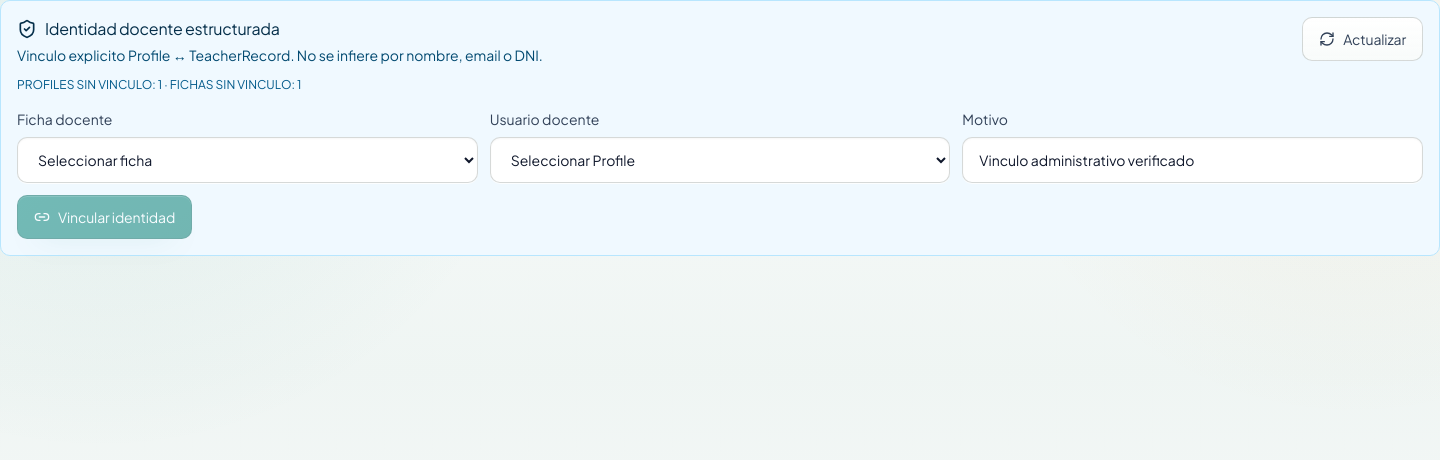
TeacherProfileIdentityLinkPanel › muestra candidatos minimizados y vincula con confirmacion explicita
Expected: the text "Profiles sin vinculo: 1 · fichas sin vinculo: 1" is shown, [17,77,301,92]
Select "Ficha Uno · activo" in the dropdown labelled "Ficha docente". click: (247, 160)
box: [17,137,478,183]
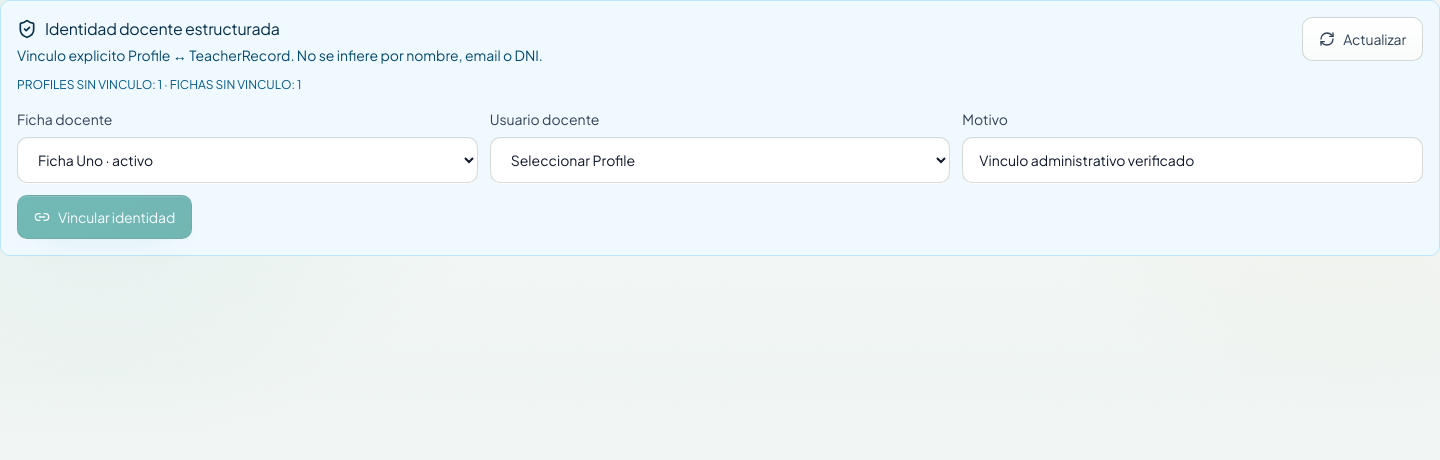
Select "Docente Uno" in the dropdown labelled "Usuario docente". click: (720, 160)
box: [490,137,950,183]
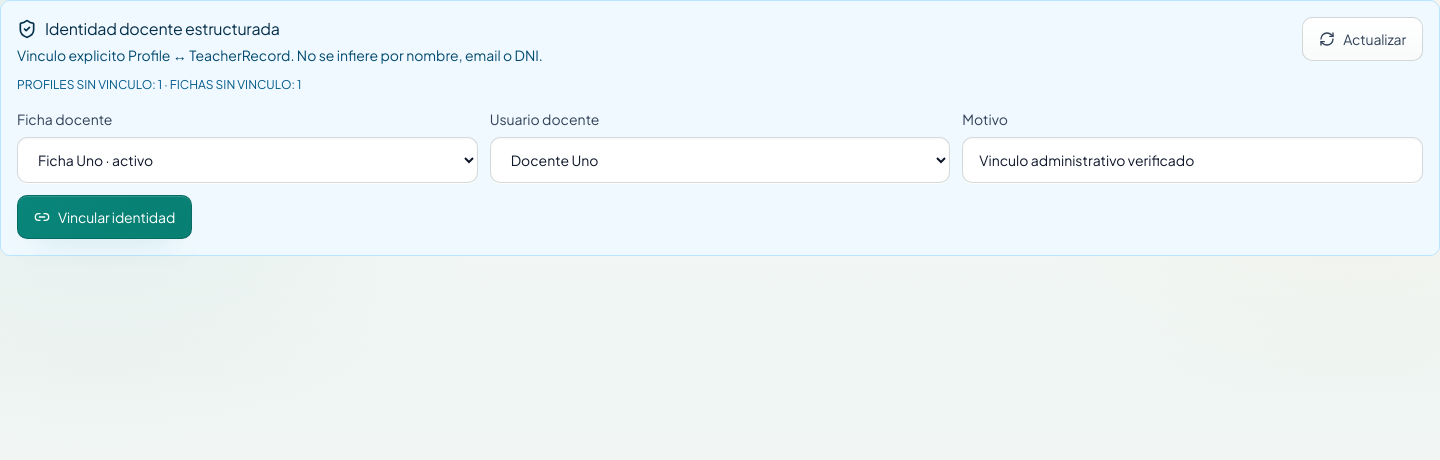
Replace the text in the field labelled "Motivo" with "Identidad verificada". click: (1193, 160)
box: [962,137,1423,183]
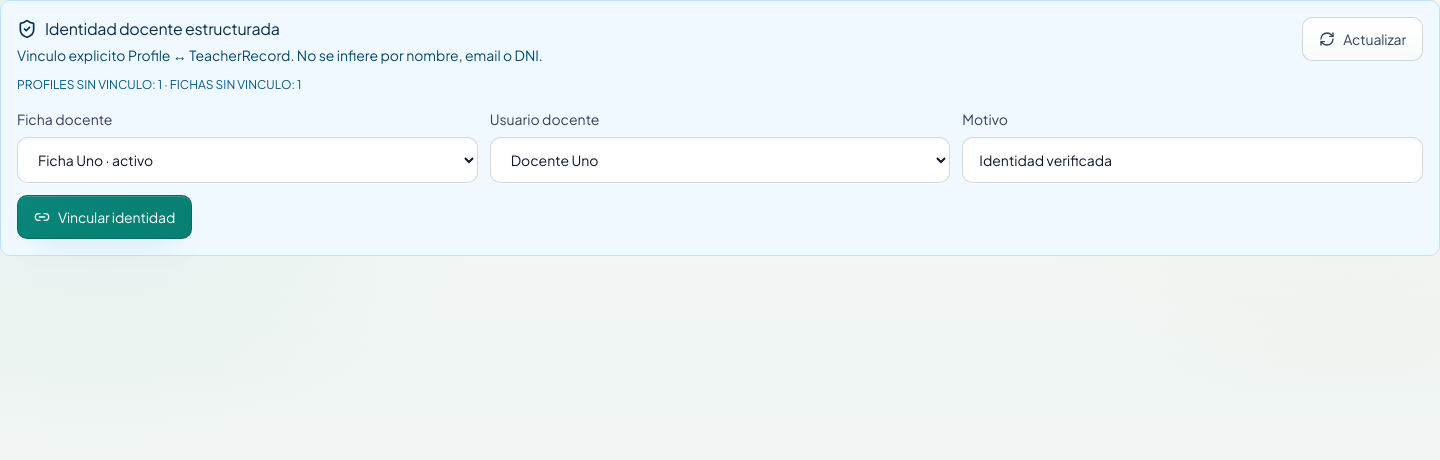
Click the button "Vincular identidad". click: click(105, 217)
box: [17,195,192,239]
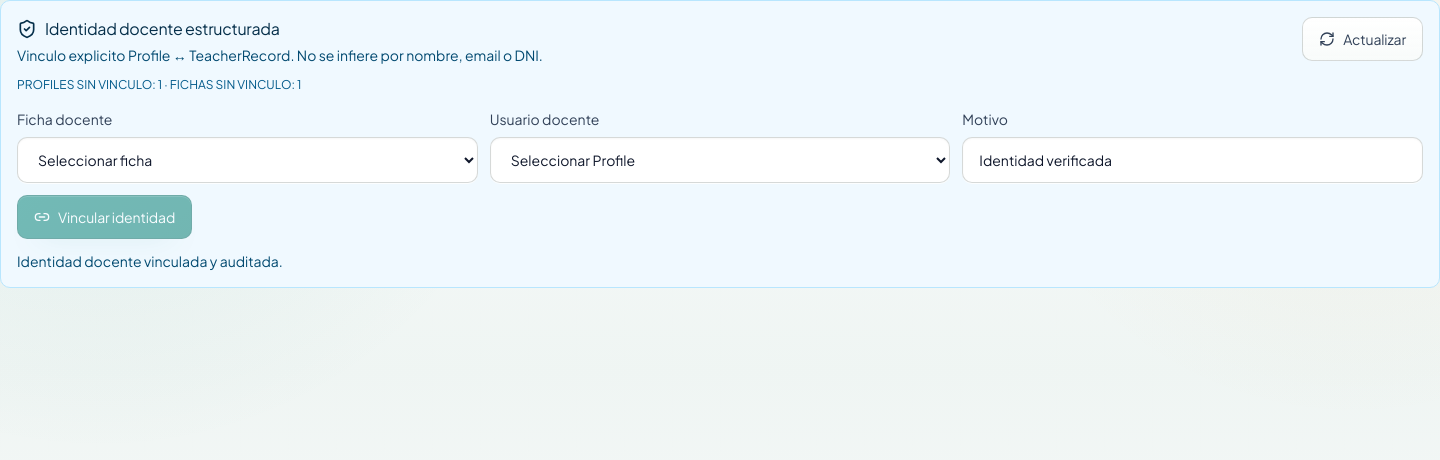
Now the text "Identidad docente vinculada y auditada." is shown, box [17,252,283,270]
